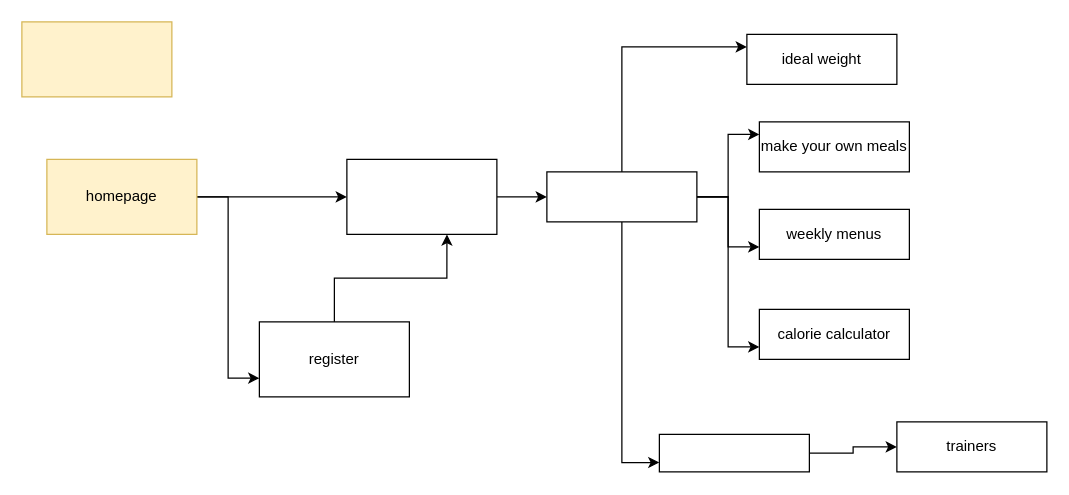
This 1069x495 diagram has some shape labels left out. Each missing label, with the box of its shape:
about us: (658, 433, 809, 472)
after.login page: (546, 171, 697, 222)
login: (346, 158, 497, 234)
routing: (21, 21, 172, 97)
